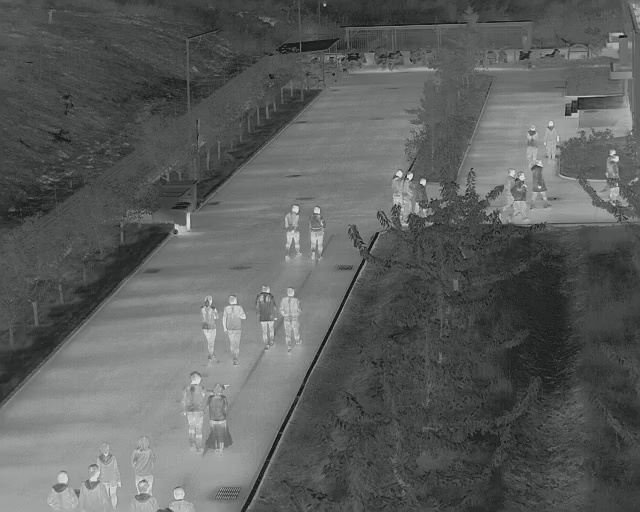person: (182, 370, 207, 451), (206, 382, 233, 452), (221, 294, 245, 366), (94, 443, 121, 503), (255, 283, 278, 351), (279, 287, 303, 349), (81, 463, 109, 512), (45, 471, 79, 511), (199, 294, 218, 363), (131, 435, 155, 486), (282, 202, 303, 259), (510, 171, 532, 223), (529, 159, 550, 211), (308, 206, 326, 264), (130, 478, 155, 512), (605, 149, 620, 205), (542, 119, 557, 162), (523, 124, 539, 164), (387, 166, 403, 206), (401, 170, 413, 218), (416, 176, 428, 215)
